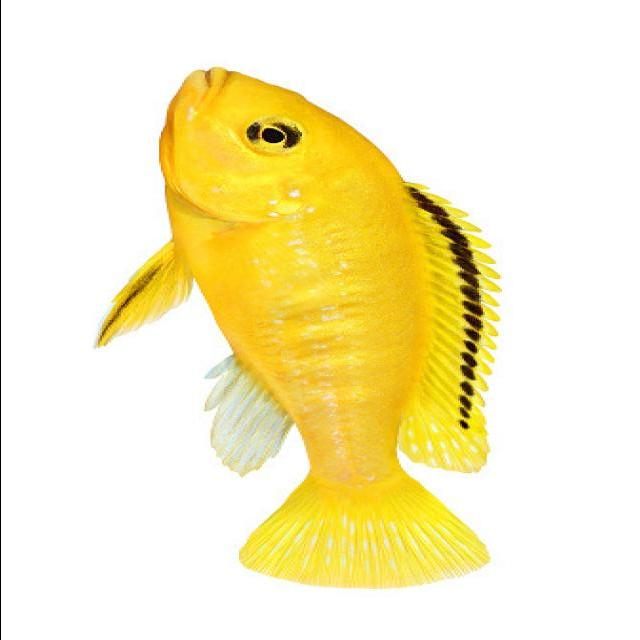YellowCichlid: (118, 62, 511, 602)
